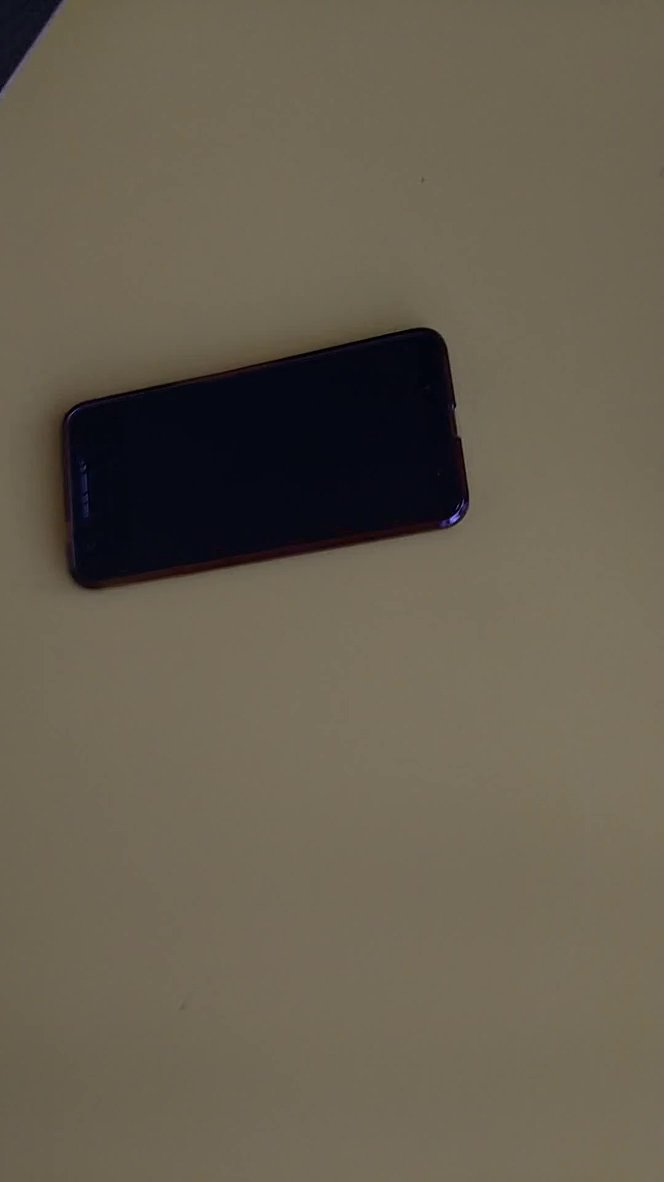phone: (52, 316, 488, 606)
